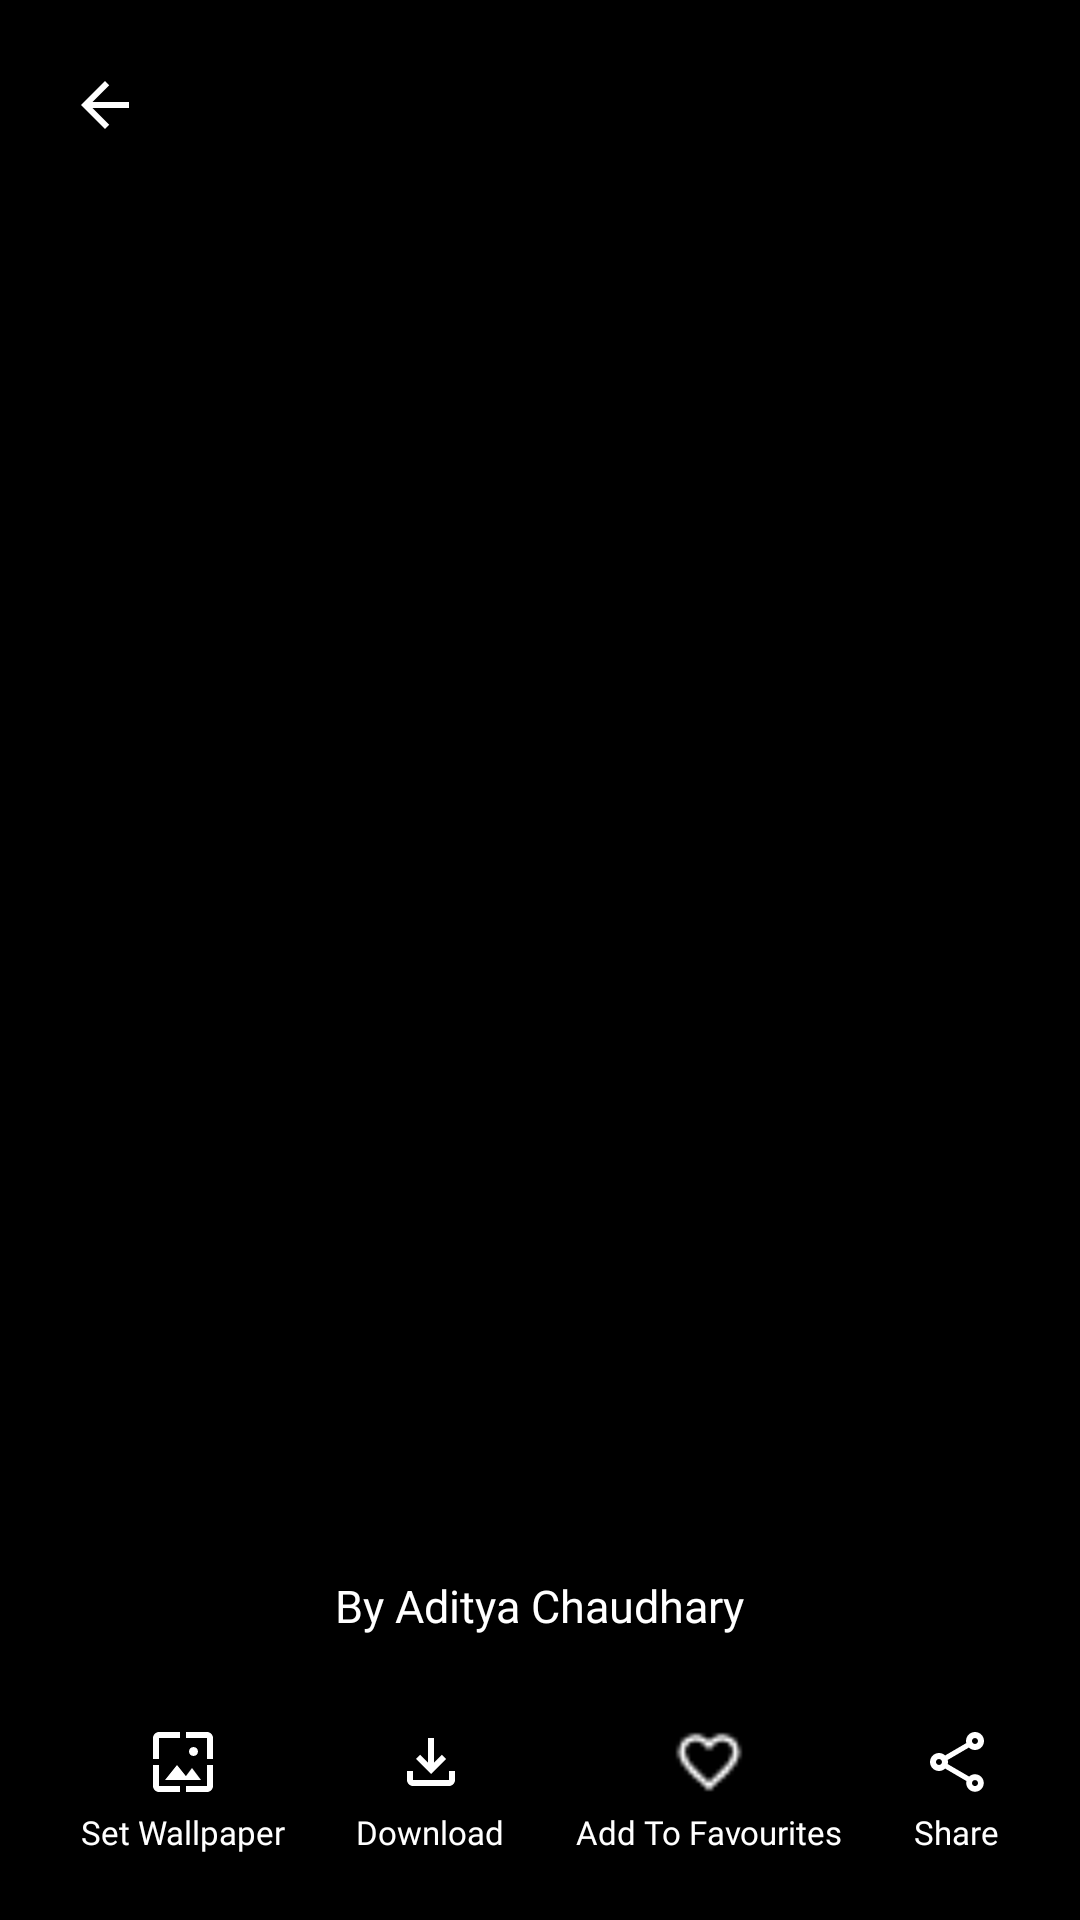

Where to tap for icons on this 1080px x 1920px app screen, as [x,y]:
back arrow: [105,105]
